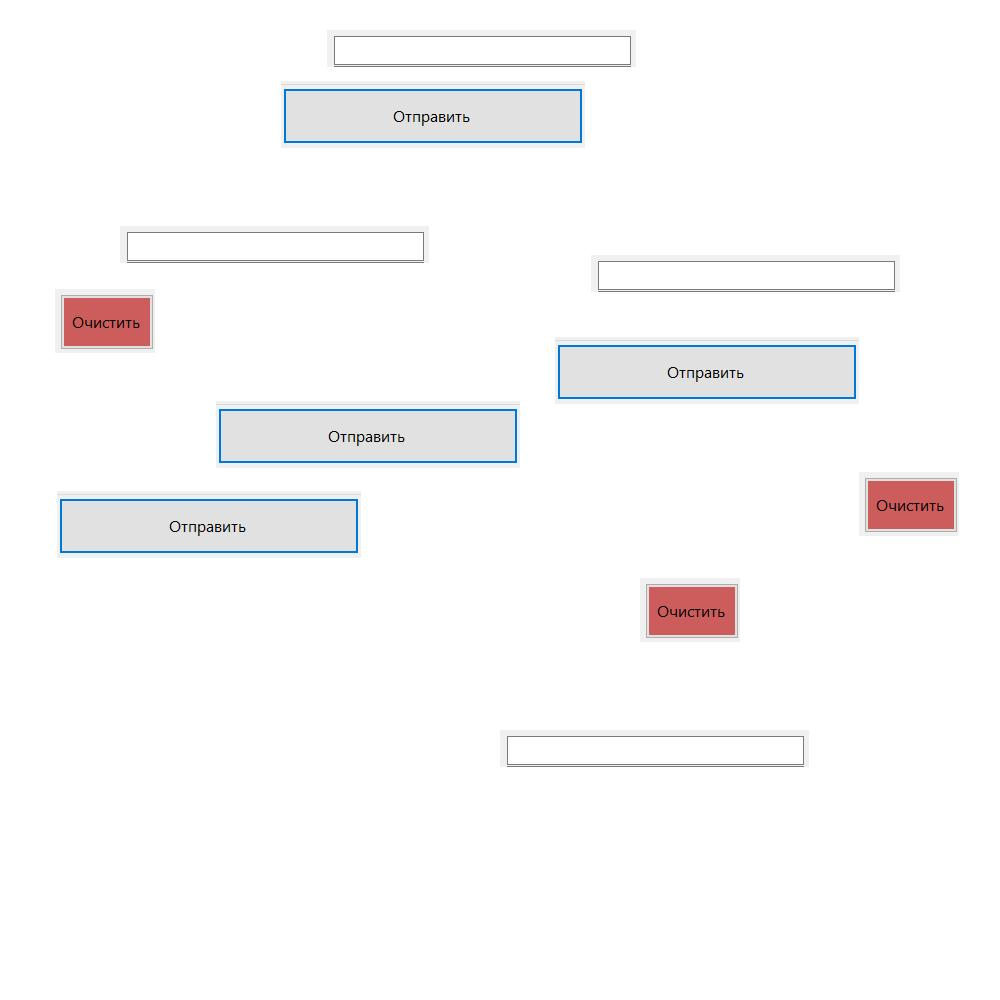Button: (555, 337, 859, 404), (281, 81, 585, 148), (216, 401, 520, 468), (57, 491, 361, 558), (859, 472, 959, 536), (640, 578, 740, 642), (55, 289, 155, 353)
EditText-: (591, 255, 900, 292), (120, 226, 429, 263), (500, 730, 809, 767), (327, 30, 636, 67)
